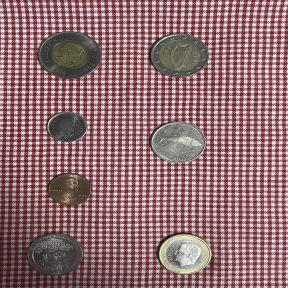1 Euro-B: (149, 225, 223, 283)
2 Euro-B: (142, 27, 217, 84)
Canada-10cent-B: (42, 104, 97, 146)
Canada-2Dollar-B: (28, 24, 113, 86)
Croatia-2Kune-B: (138, 114, 214, 174)
US-1cent-B: (42, 168, 98, 210)
US-25cent-B: (18, 227, 94, 284)
